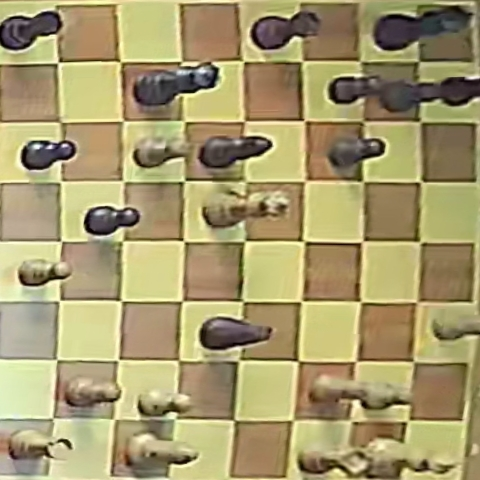black-bishop: (199, 135, 272, 168)
black-king: (375, 6, 472, 51), (1, 11, 62, 51)
black-knight: (199, 316, 272, 351)
black-pawn: (381, 79, 443, 112), (326, 136, 384, 168), (85, 206, 140, 236), (22, 140, 76, 170), (328, 75, 381, 104), (439, 75, 480, 109)
black-queen: (135, 63, 218, 105)
black-rook: (253, 10, 321, 50)
white-bishop: (126, 432, 199, 467), (20, 259, 73, 287)
white-king: (362, 438, 463, 475)
white-pawn: (134, 136, 192, 168), (310, 374, 370, 403), (65, 376, 120, 407), (136, 389, 192, 417), (358, 381, 409, 409), (434, 315, 480, 339)
white-queen: (203, 189, 289, 227)
white-rook: (301, 445, 373, 477), (8, 430, 73, 461)
